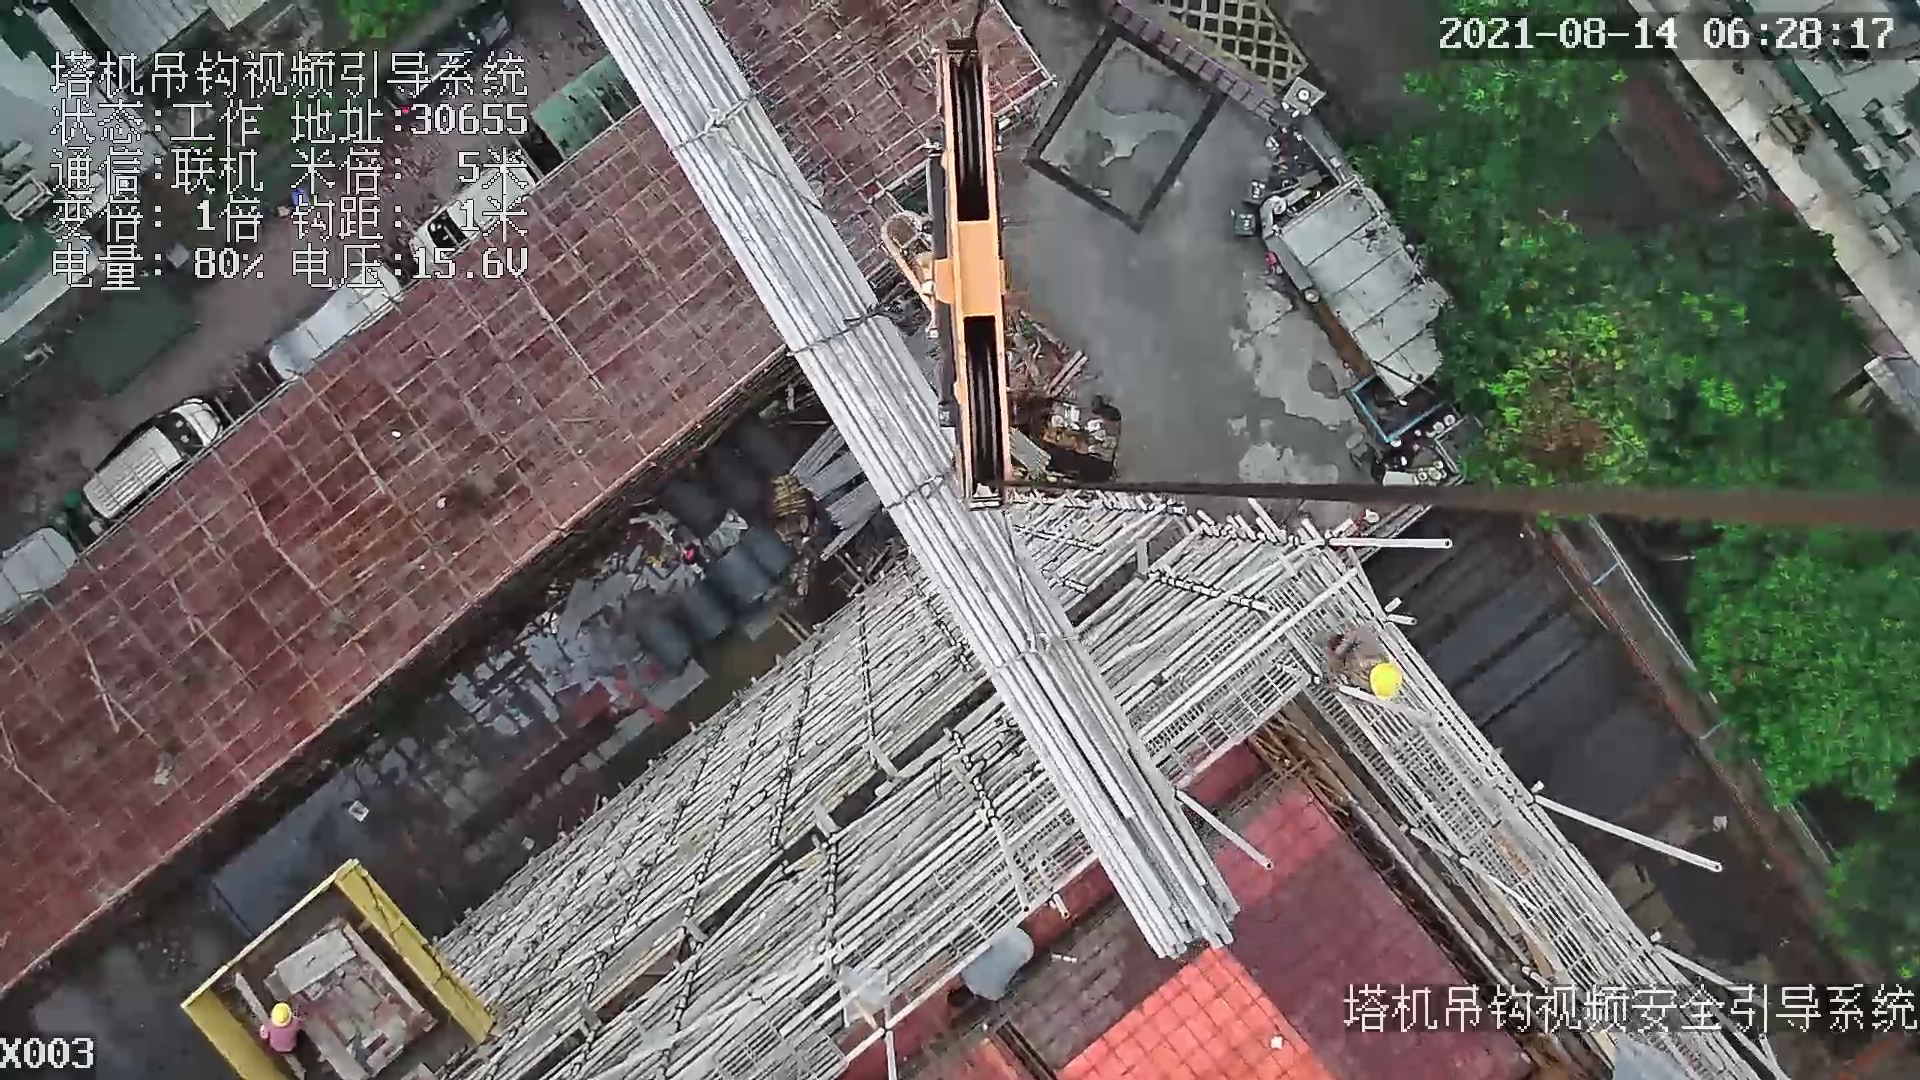helmet: (1361, 656, 1417, 712), (266, 1003, 297, 1033)
hook: (933, 44, 1021, 509)
person: (1317, 630, 1409, 701), (249, 999, 308, 1055)
